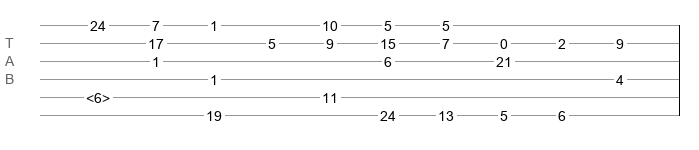0: (500, 36, 508, 46)
1: (152, 54, 160, 64), (210, 72, 218, 82), (210, 18, 218, 28)
10: (322, 18, 338, 28)
11: (322, 90, 338, 100)
13: (438, 108, 454, 118)
15: (380, 36, 396, 46)
17: (148, 36, 164, 46)
19: (206, 108, 222, 118)
2: (558, 36, 566, 46)
21: (496, 54, 512, 64)
24: (90, 18, 106, 28), (380, 108, 396, 118)
4: (616, 72, 624, 82)
5: (268, 36, 276, 46), (384, 18, 392, 28), (442, 18, 450, 28), (500, 108, 508, 118)
6: (384, 54, 392, 64), (558, 108, 566, 118)
7: (152, 18, 160, 28), (442, 36, 450, 46)
9: (326, 36, 334, 46), (616, 36, 624, 46)
harmonic: (86, 90, 110, 100)
